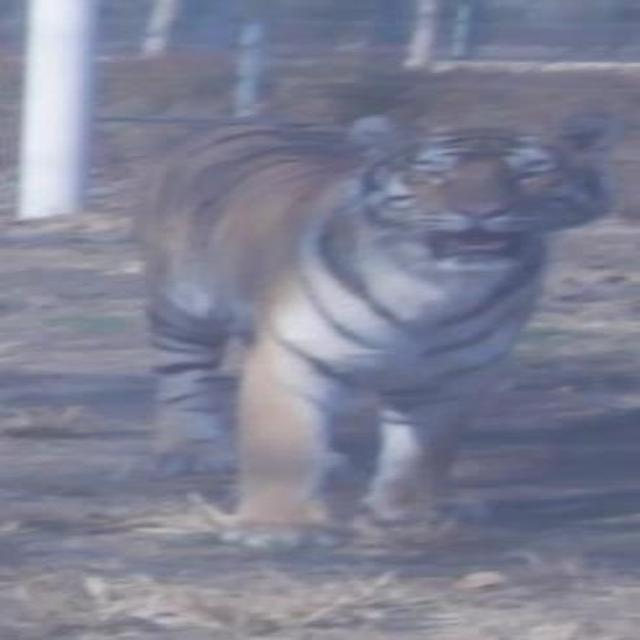tiger: (109, 79, 626, 566)
